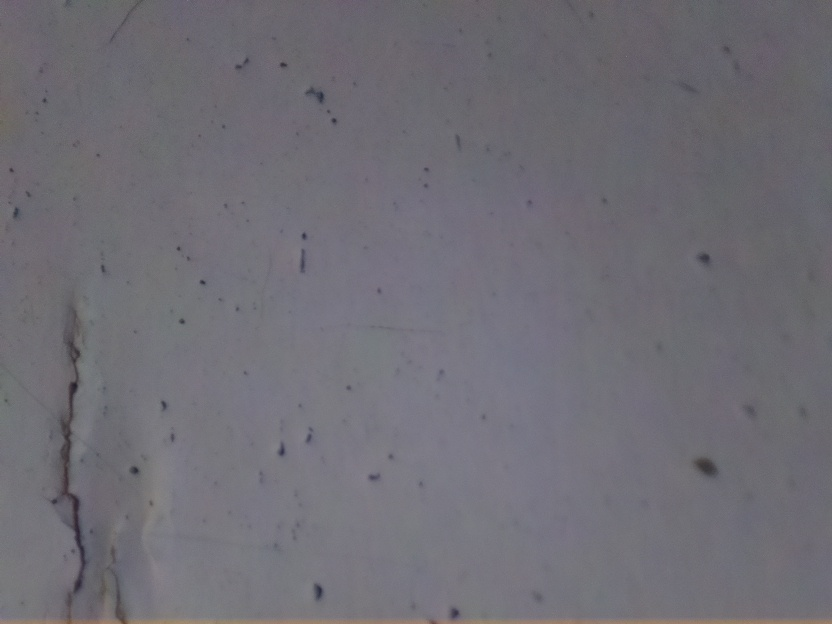crack: (32, 313, 92, 624), (106, 548, 130, 624)
